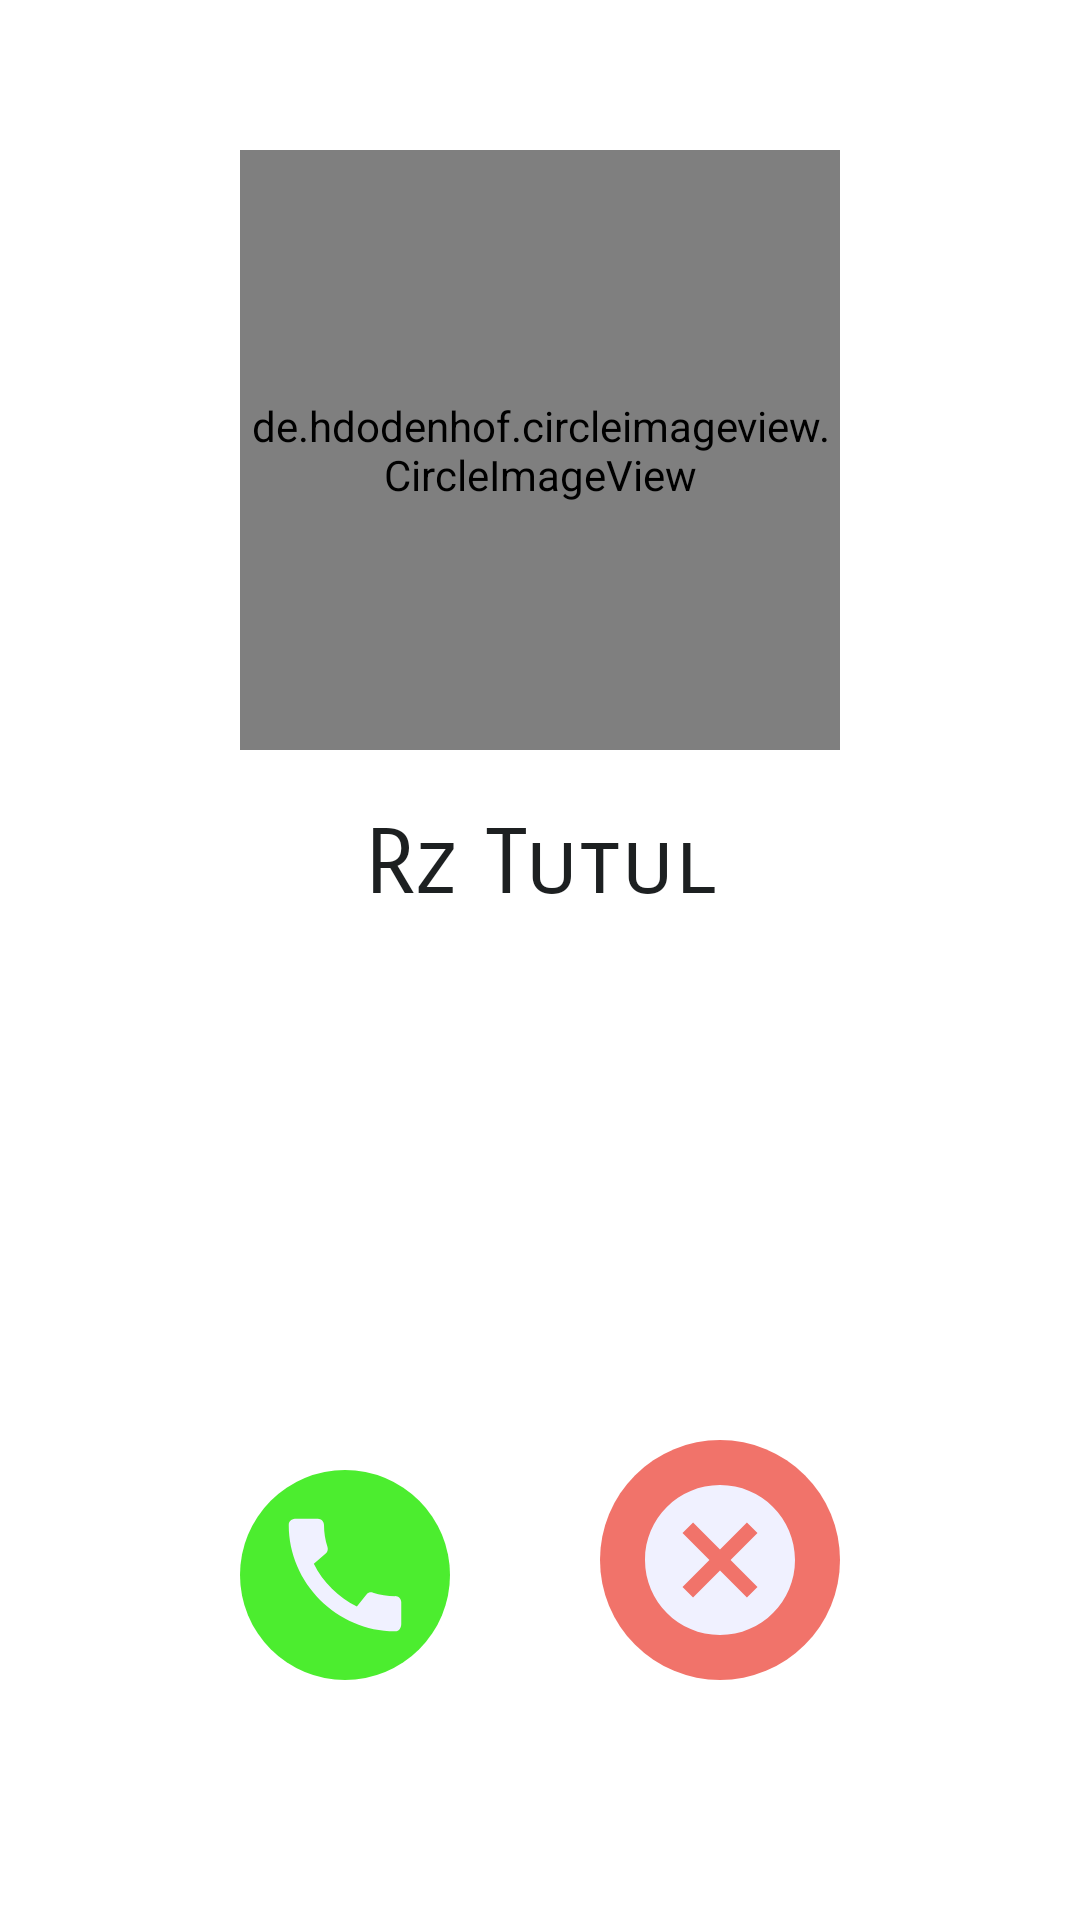

Where icons sit on this 1080×1920 app screen, as bbox=(x1, y1, x2, y2):
call: bbox=(240, 1470, 450, 1680)
cancel: bbox=(600, 1440, 840, 1680)
